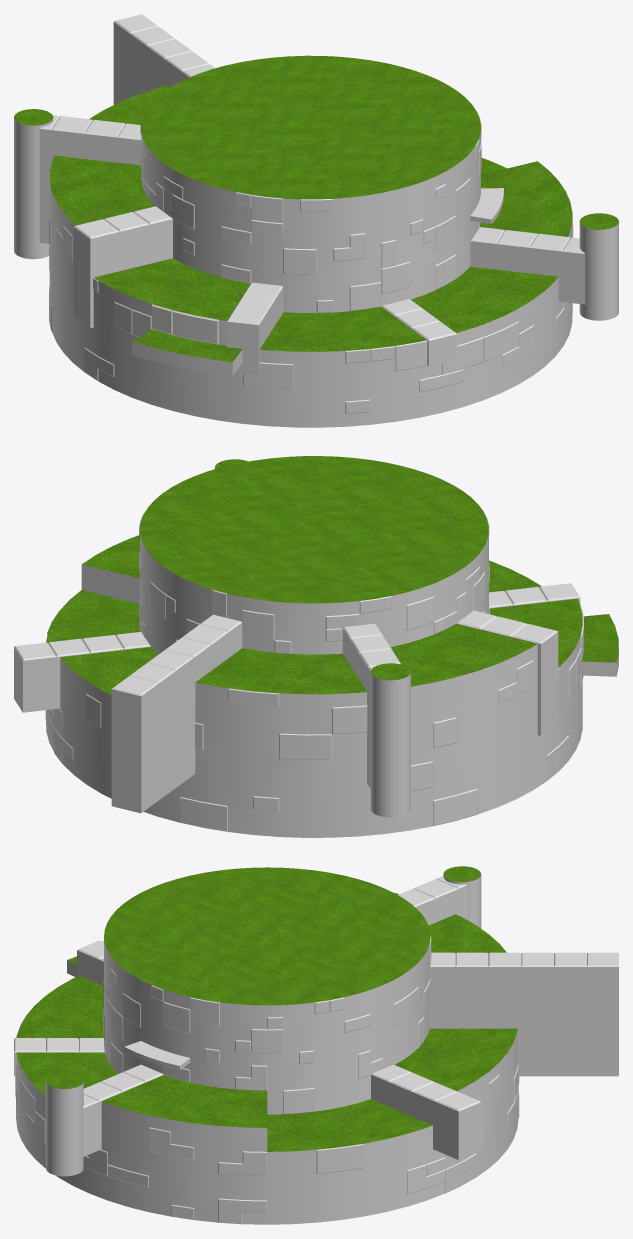
File: SM_world_1_02.fbx
3 views of the same model, one above another, from view 1: azimuth 30°, elevation 25°; view 2: azimuth 150°, elevation 25°; view 3: azimuth 270°, elevation 25° (orthographic). The views are drawn at different scales.
Parts seen in each view (by area): view 1: main_mesh; view 2: main_mesh; view 3: main_mesh.
Part boxes in pixels (<box>): main_mesh: <box>14,14,618,427</box>; main_mesh: <box>14,456,618,837</box>; main_mesh: <box>14,866,618,1224</box>.
Bounding box in the file's own units: 20485 × 24083 × 8000.
